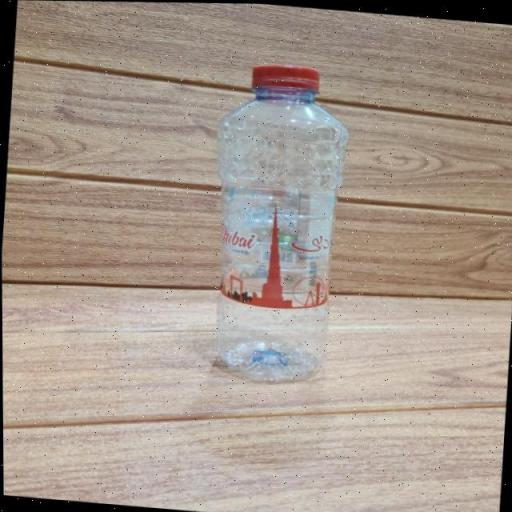plastic: (204, 56, 354, 386)
